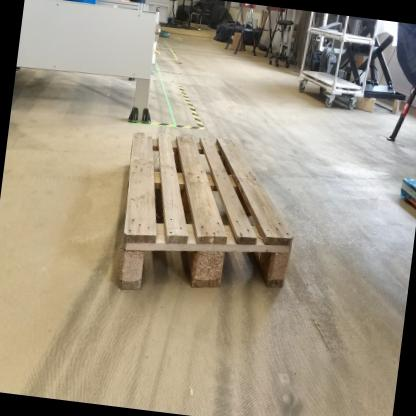BoxFace: (117, 128, 299, 295)
